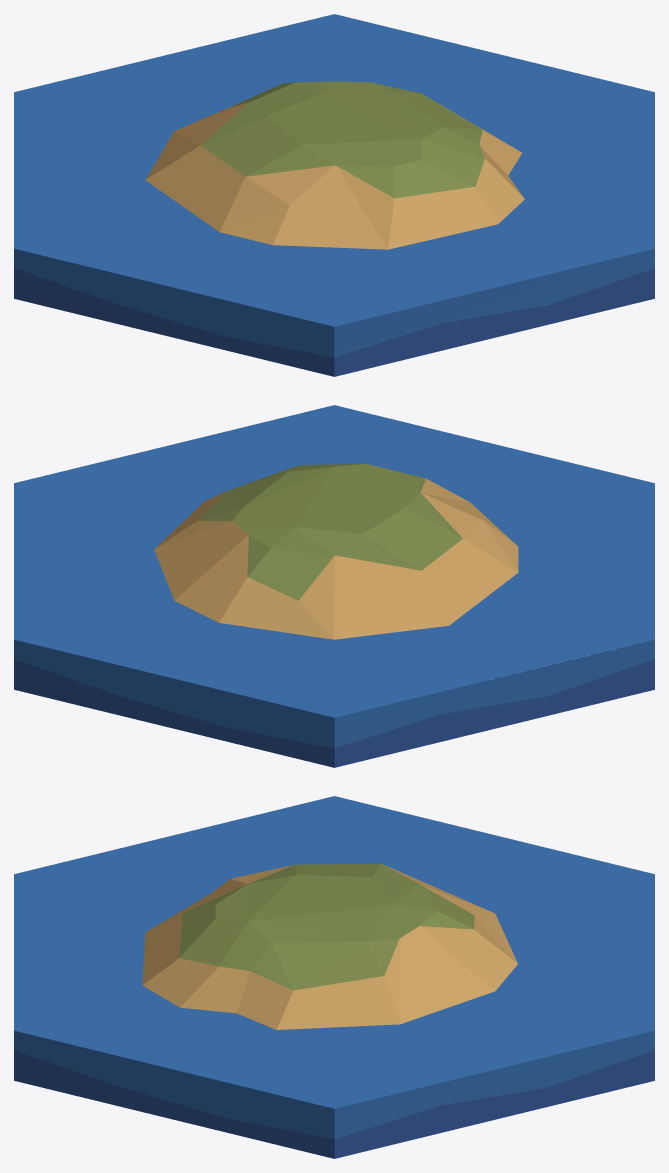
Rendered from SM_Tile_Hex_Island_01.glb.
3 renders of one model, top to bottom at view 1: azimuth 30°, elevation 25°; view 2: azimuth 150°, elevation 25°; view 3: azimuth 270°, elevation 25°, orthographic.
Parts seen in each view (by area): view 1: SM_Tile_Hex_Island_01; view 2: SM_Tile_Hex_Island_01; view 3: SM_Tile_Hex_Island_01.
Part boxes in pixels (x1=…): SM_Tile_Hex_Island_01: x1=14, y1=14, x2=654, y2=376; SM_Tile_Hex_Island_01: x1=14, y1=405, x2=654, y2=767; SM_Tile_Hex_Island_01: x1=14, y1=796, x2=654, y2=1158.
Bounding box in the file's own units: 5.77 × 0.883 × 5.
1 material, 1 textured.
